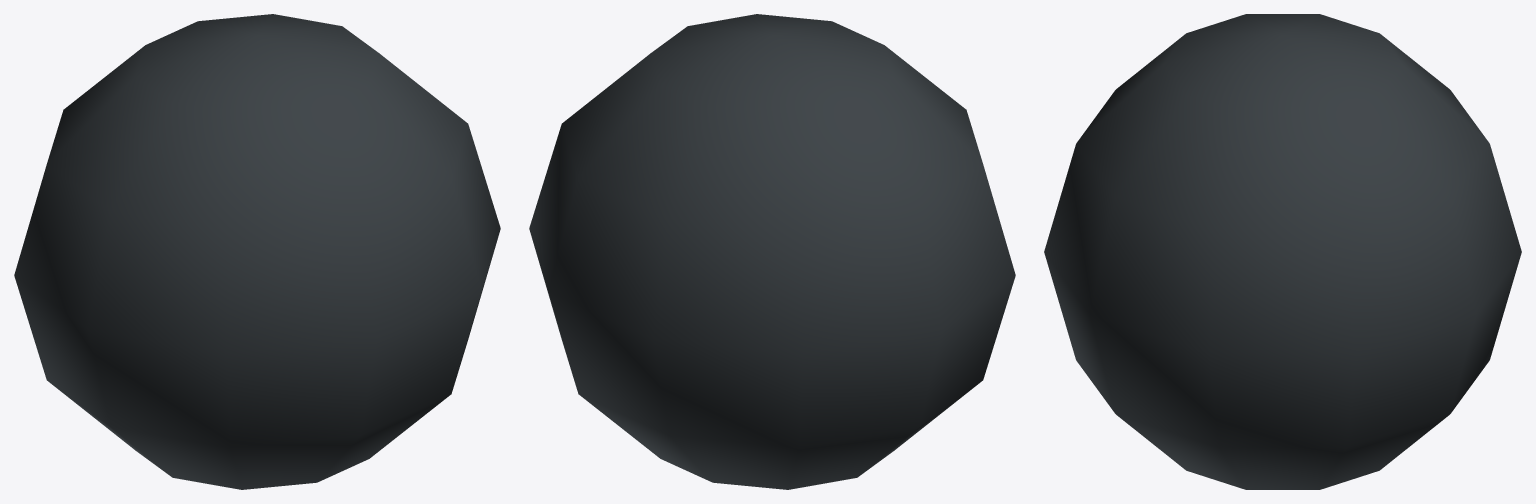
Rendered from SM_Props_Pool_09.fbx.
The picture shows the model from 3 angles, left to right: view 1: azimuth 30°, elevation 25°; view 2: azimuth 150°, elevation 25°; view 3: azimuth 270°, elevation 25°; orthographic projection.
Visible parts, largest first — view 1: SM_Props_Pool_09; view 2: SM_Props_Pool_09; view 3: SM_Props_Pool_09.
Boxes of the visible parts, x1,y1,x2,y2 form: SM_Props_Pool_09: [14, 14, 500, 489]; SM_Props_Pool_09: [529, 14, 1015, 489]; SM_Props_Pool_09: [1044, 14, 1521, 489].
Size of the model in its own units: 0.08 by 0.08 by 0.08.
